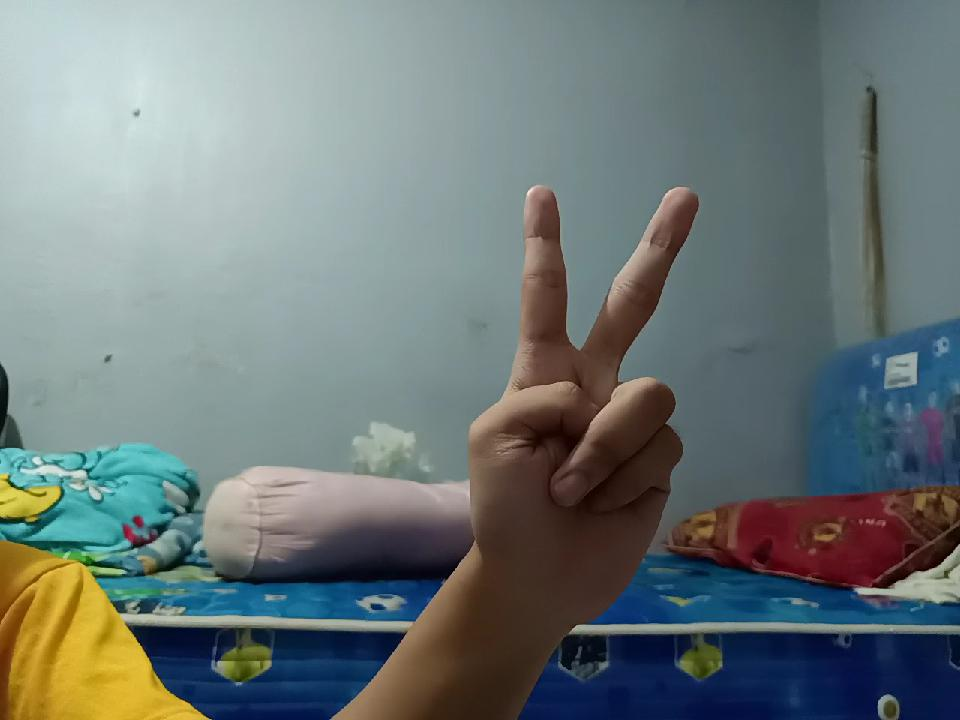scissors: (452, 157, 702, 627)
